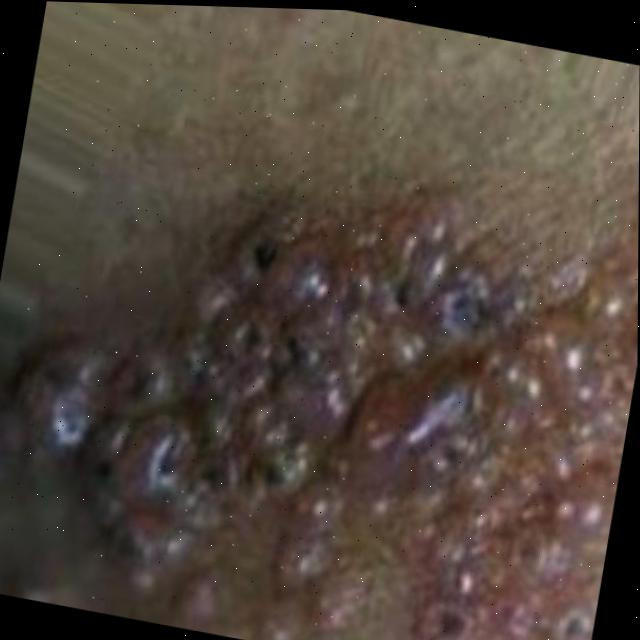Shingles: (21, 90, 639, 640)
